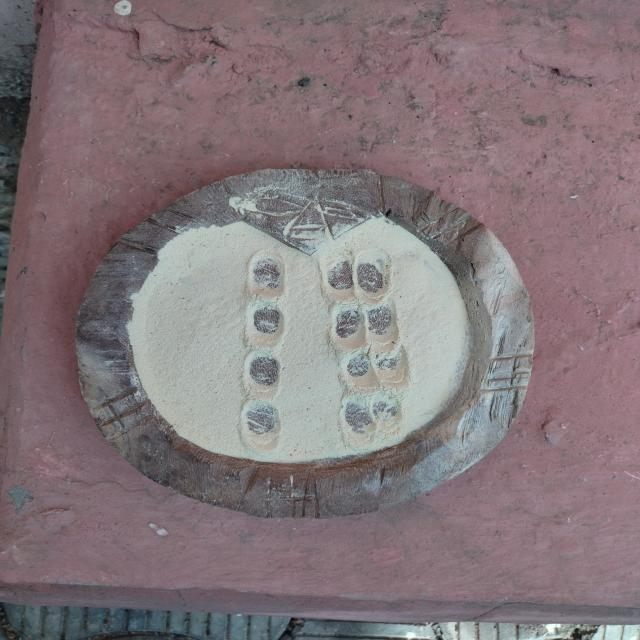double: (316, 247, 394, 304), (326, 298, 406, 352), (338, 387, 408, 448), (336, 342, 414, 394)
single: (238, 399, 286, 456), (245, 246, 288, 306), (244, 302, 290, 356), (241, 349, 283, 402)
